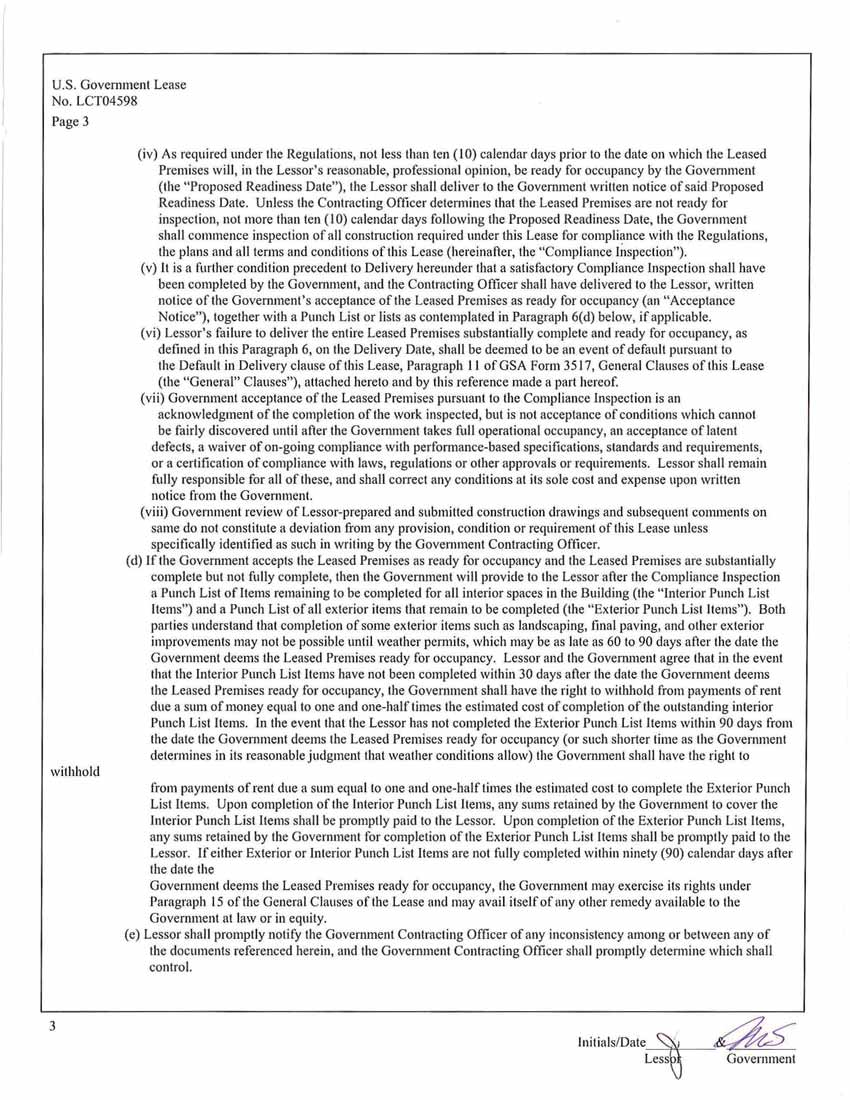handwritten: (714, 1015, 805, 1052), (654, 1017, 694, 1086)
